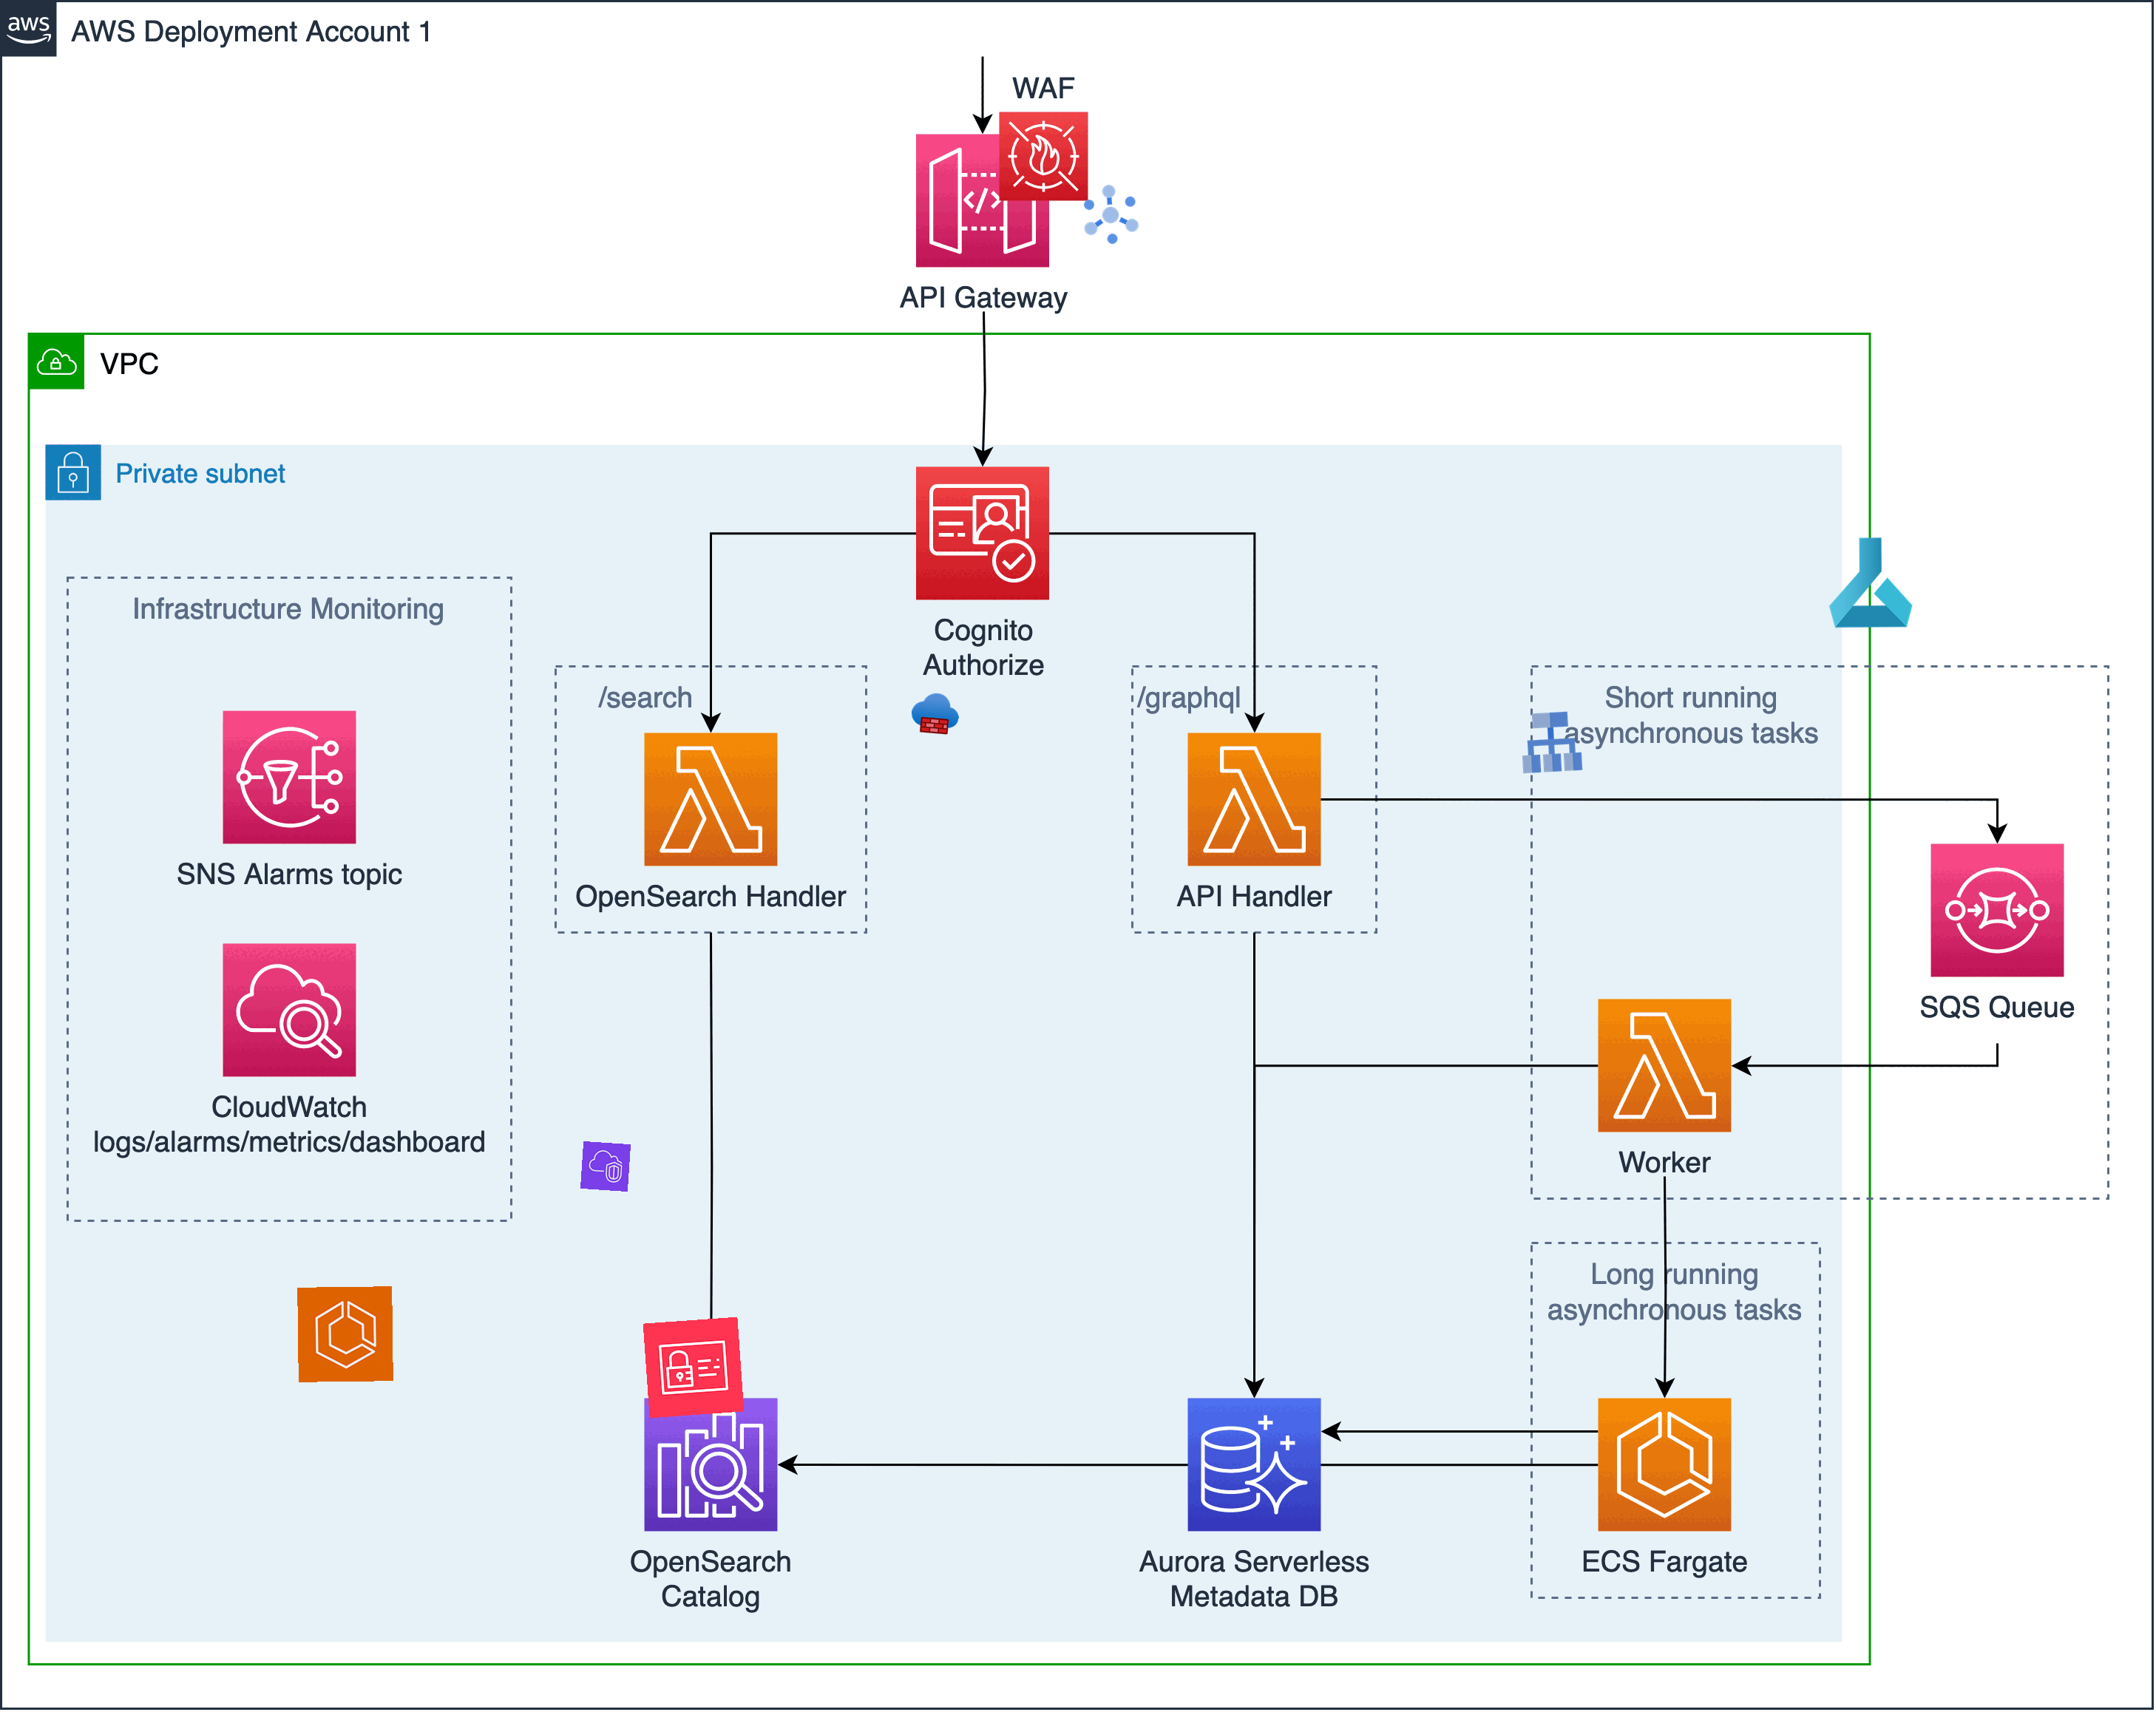aws_amazon_elastic_container_service: (298, 1287, 394, 1381)
aws_amazon_virtual_private_cloud: (579, 1140, 632, 1193)
aws_identity_and_access_management: (642, 1317, 744, 1418)
azure_firewalls: (910, 687, 961, 740)
azure_machine_learning: (1822, 535, 1918, 631)
gcp_cloud_load_balancing: (1514, 705, 1589, 780)
gcp_pubsub: (1073, 177, 1150, 254)
